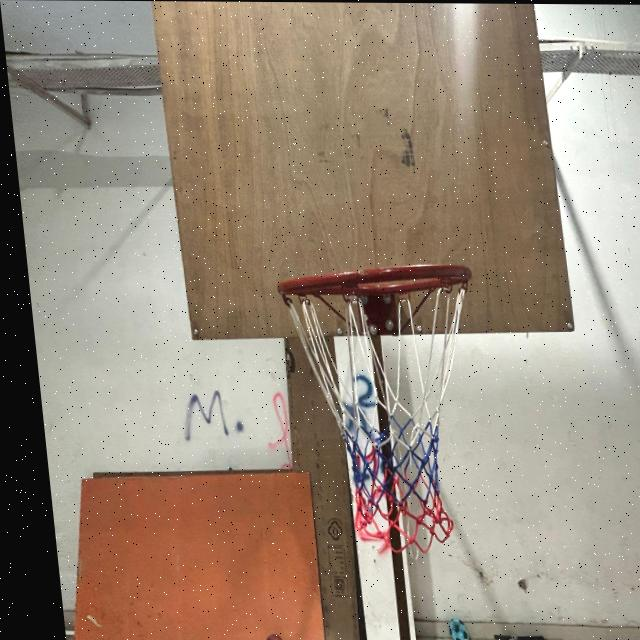hoop: (260, 248, 515, 584)
